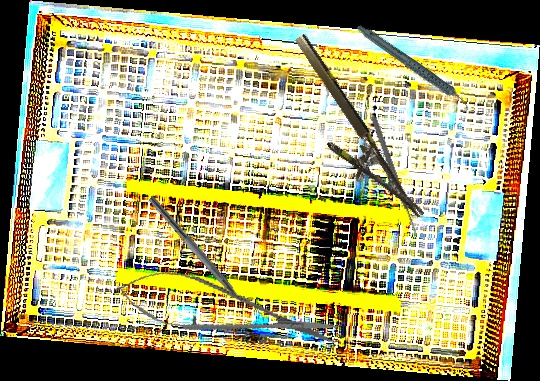Chopper: (140, 195, 254, 319)
Handpiece: (355, 5, 472, 131)
Micro Scissor: (110, 259, 345, 363)
Needle Holder: (269, 32, 425, 238)
Pusher: (369, 115, 421, 239)
